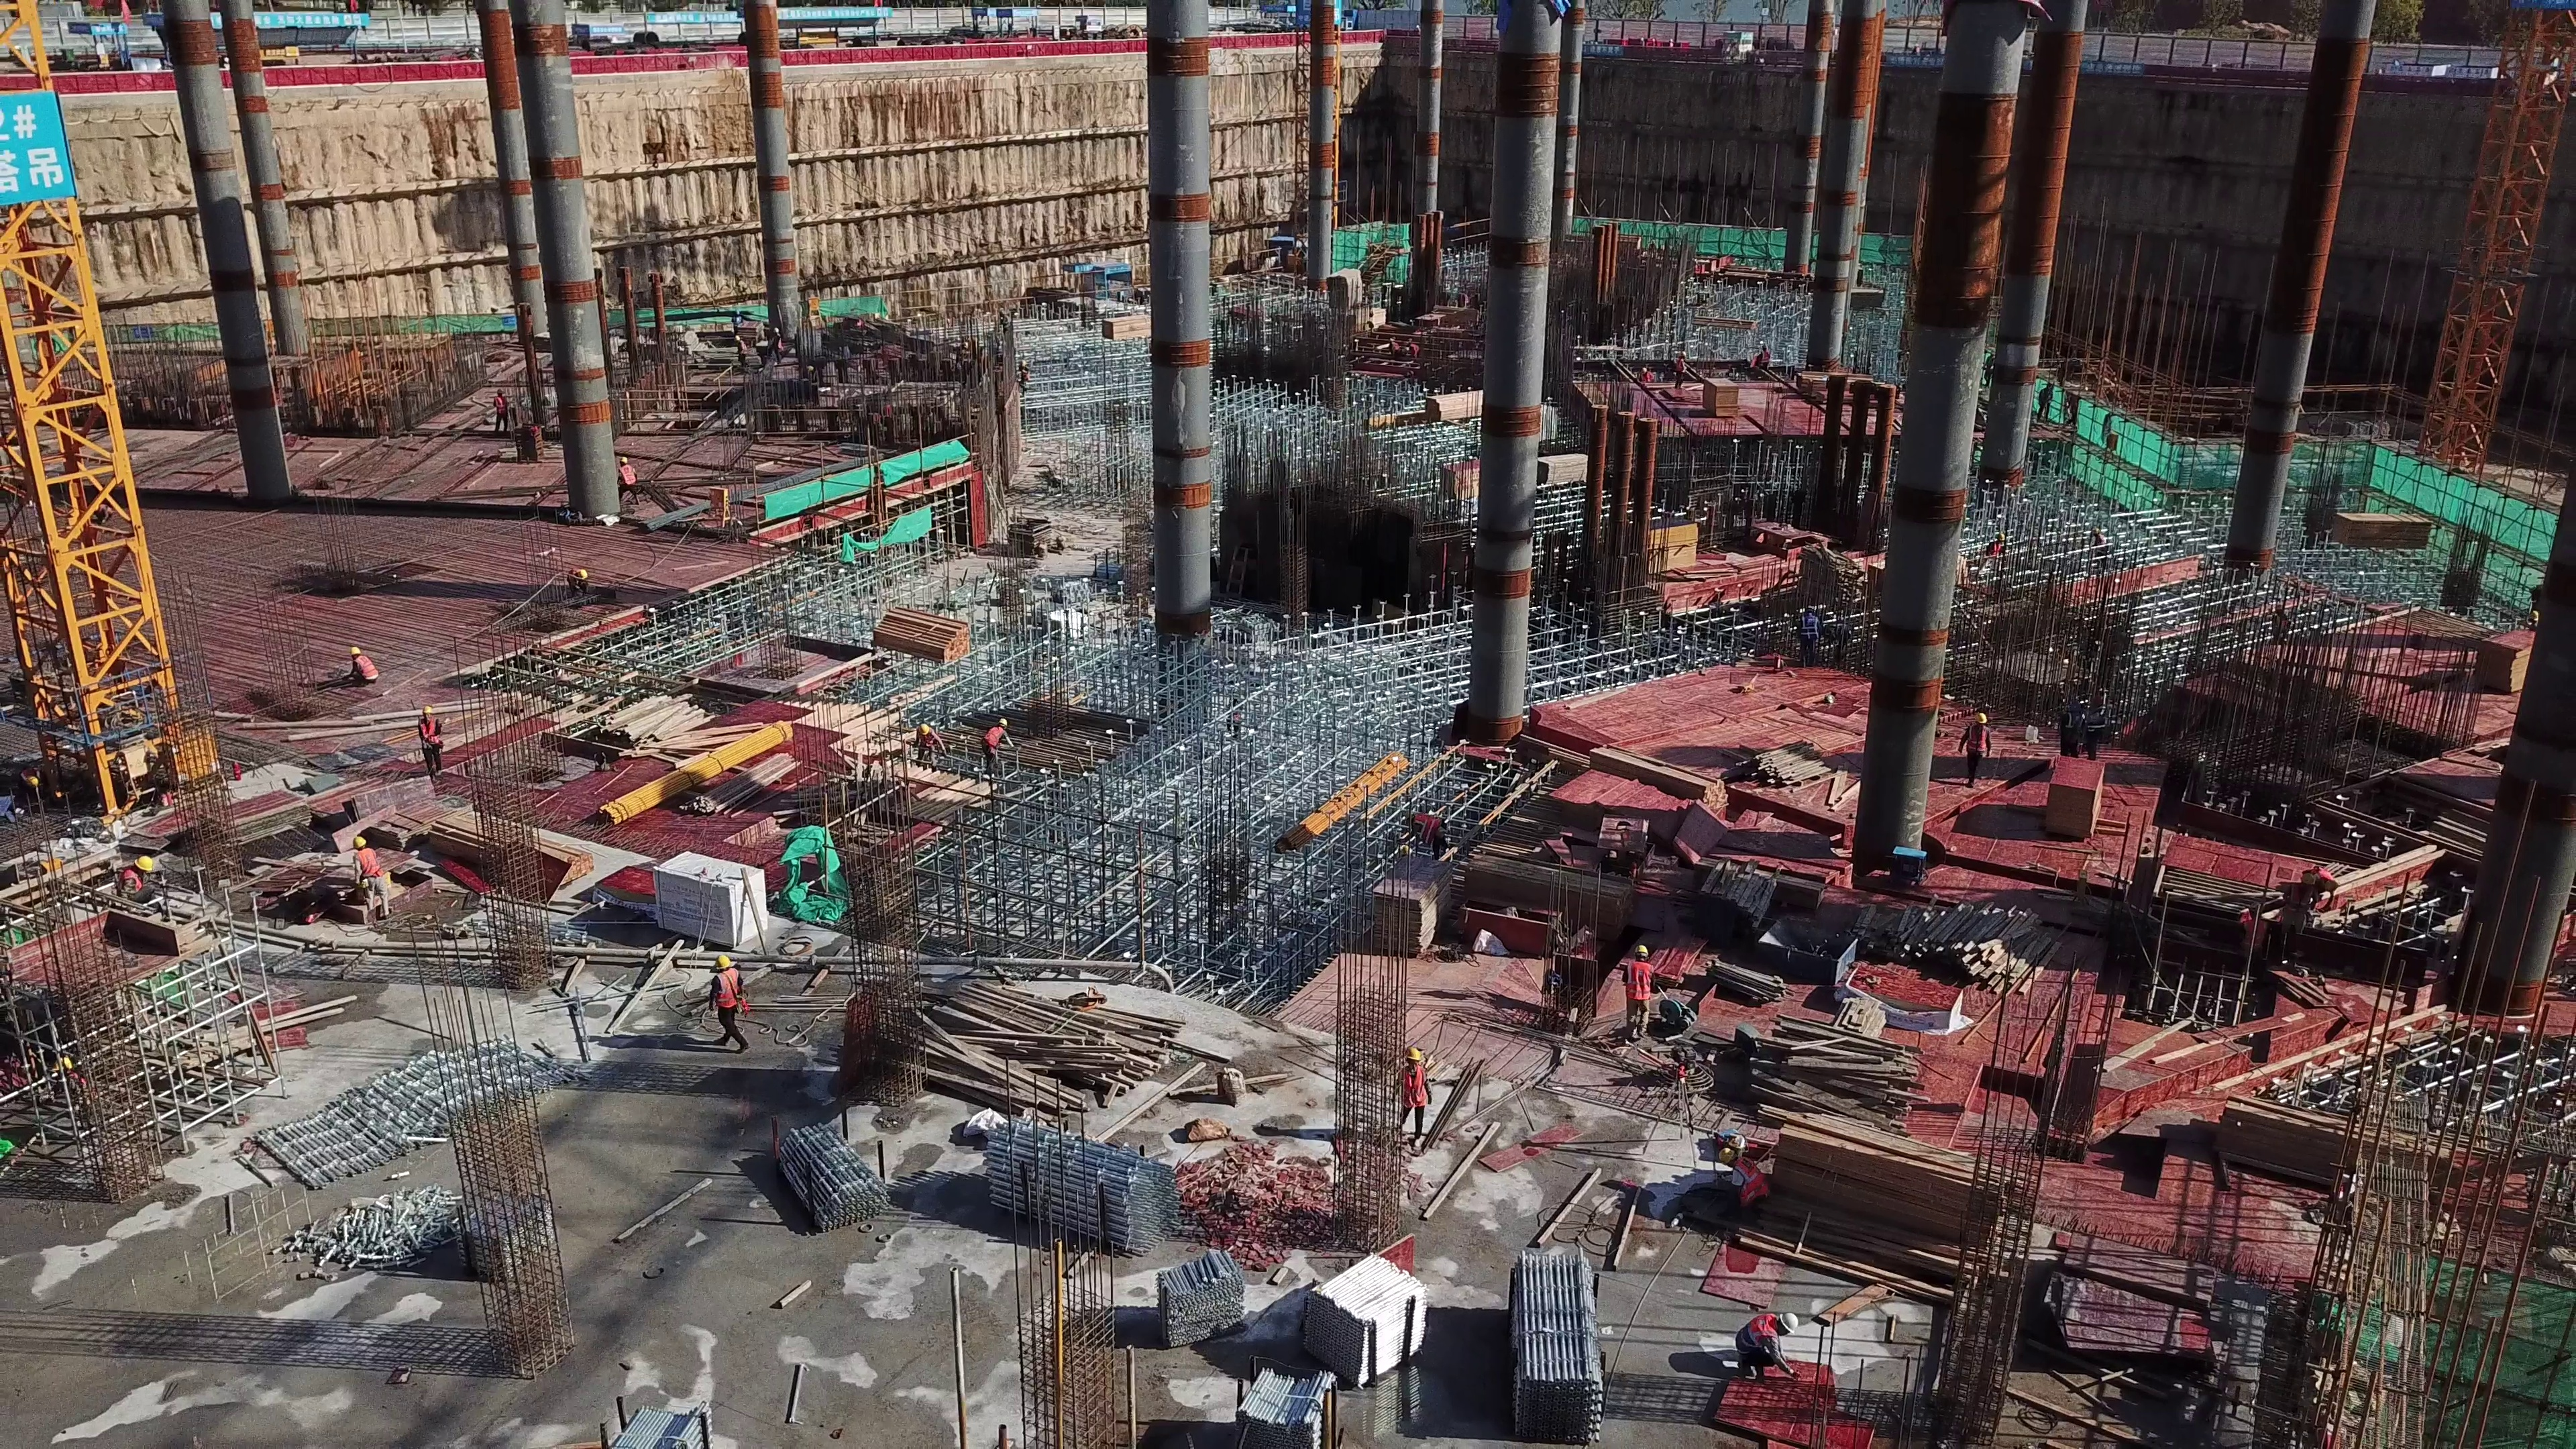board: (1468, 855, 1625, 931), (325, 775, 476, 838), (1376, 851, 1450, 959), (1576, 767, 1692, 835), (2045, 757, 2109, 847), (223, 795, 305, 845), (1438, 458, 1476, 501), (1703, 379, 1737, 415)
cutter: (1654, 990, 1699, 1036)
fence: (562, 37, 1136, 74), (2081, 33, 2311, 87), (240, 64, 490, 91), (2367, 47, 2516, 91), (1864, 34, 2042, 69), (1580, 26, 1802, 56), (1, 67, 190, 95), (1200, 34, 1420, 55), (1426, 13, 1512, 41)
helmet: (712, 971, 741, 1010), (354, 846, 382, 876), (418, 718, 441, 749), (1778, 1314, 1798, 1332), (712, 951, 731, 969), (132, 858, 154, 874), (1720, 1144, 1737, 1161), (1403, 1047, 1421, 1063), (350, 835, 366, 851), (346, 645, 362, 657), (1635, 945, 1648, 955), (1974, 714, 1985, 727), (918, 724, 928, 737), (576, 570, 586, 577), (425, 707, 435, 714)
person: (120, 849, 179, 933), (1735, 1310, 1805, 1381), (704, 958, 750, 1055), (341, 839, 390, 928), (1386, 1042, 1424, 1149), (1628, 940, 1658, 1044), (1720, 1149, 1766, 1212), (415, 700, 445, 778), (1401, 809, 1450, 857), (908, 720, 948, 772), (1963, 712, 1991, 784), (981, 722, 1019, 775), (1791, 607, 1817, 667), (339, 652, 379, 686), (614, 460, 639, 507), (563, 568, 592, 596), (490, 391, 508, 433)
scaffold: (265, 1027, 562, 1175), (979, 1125, 1180, 1261), (1497, 1247, 1608, 1449), (333, 1190, 533, 1273), (1307, 1259, 1445, 1373), (771, 1123, 891, 1234), (1223, 1357, 1357, 1449), (1140, 1247, 1254, 1347)
slogan: (1888, 58, 2143, 78)
vest: (1730, 1316, 1780, 1356), (1620, 962, 1657, 1006), (1734, 1159, 1762, 1207), (1396, 1067, 1424, 1115), (1410, 813, 1440, 843), (1964, 727, 1988, 757), (984, 725, 1010, 751), (356, 652, 379, 680), (1796, 616, 1819, 641), (622, 466, 638, 488), (493, 396, 505, 416)
wood: (1756, 1129, 1974, 1272), (925, 996, 1162, 1116), (1745, 1022, 1911, 1121), (871, 598, 964, 665), (502, 825, 599, 875), (1749, 747, 1825, 792)
